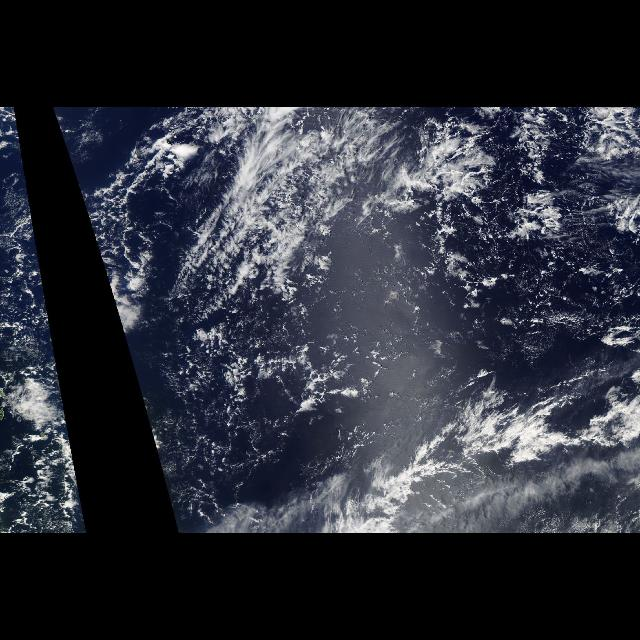Fish: (220, 391, 640, 534), (158, 122, 390, 324)
Gravel: (157, 272, 369, 468), (440, 107, 610, 317)
Sugar: (430, 144, 632, 310)
